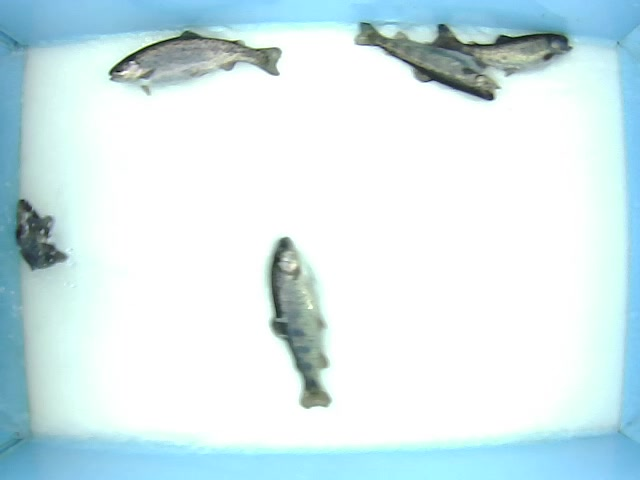fish: (103, 28, 281, 98), (352, 20, 500, 104), (266, 234, 336, 410), (428, 21, 574, 78), (12, 197, 74, 286)
